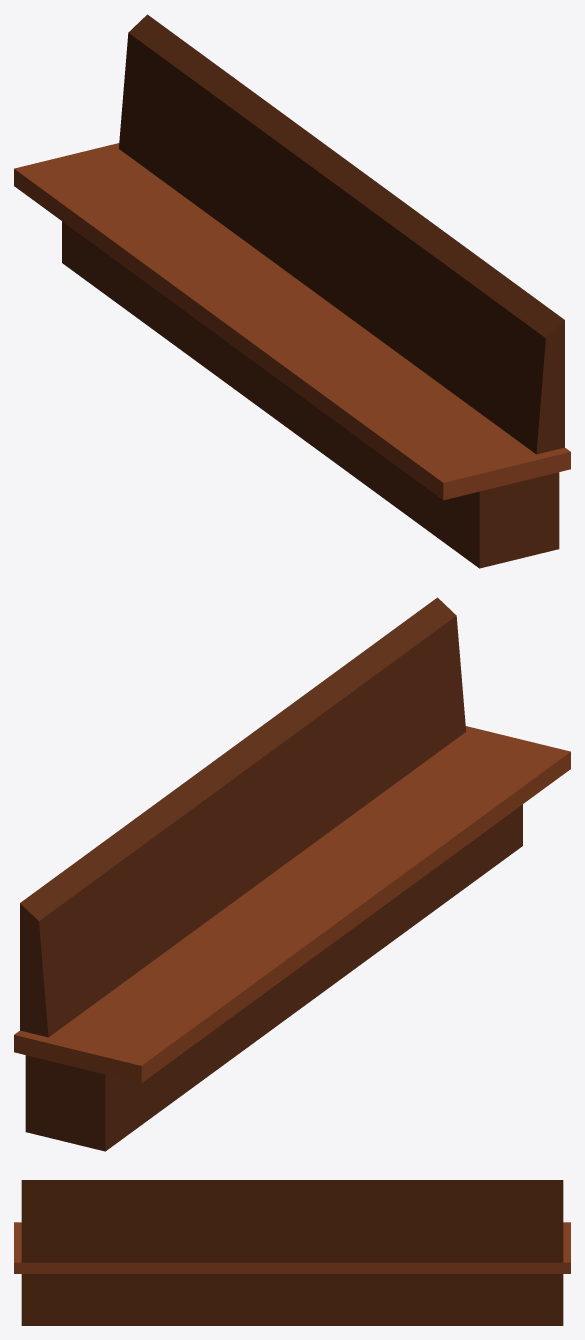
File: half_seat.fbx
3 renders of one model, top to bottom at view 1: azimuth 30°, elevation 25°; view 2: azimuth 150°, elevation 25°; view 3: azimuth 270°, elevation 25°, orthographic. The views are drawn at different scales.
Parts seen in each view (by area): view 1: half_seat3; view 2: half_seat3; view 3: half_seat3.
Boxes of the visible parts, bbox=[...] form: half_seat3: bbox=[14, 14, 570, 568]; half_seat3: bbox=[14, 597, 570, 1151]; half_seat3: bbox=[14, 1180, 570, 1325].
Size of the model in its own units: 76.27 by 130 by 445.
Materials: 1 (1 with a texture image).
